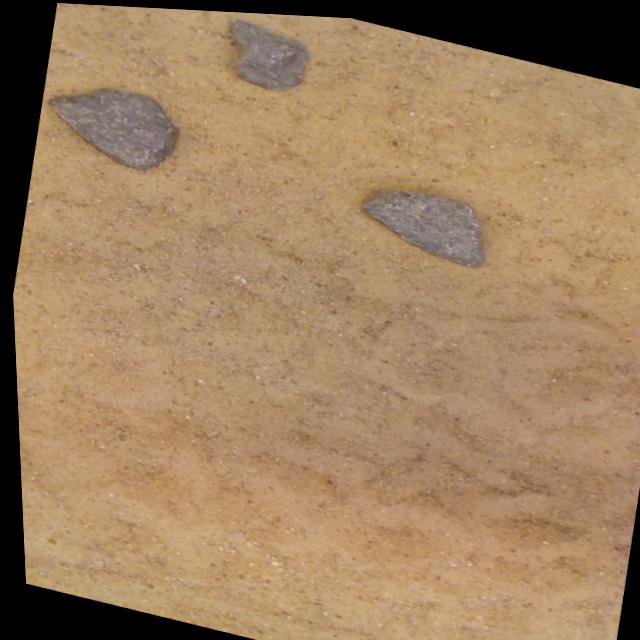rock: (47, 88, 176, 169), (360, 185, 480, 262), (229, 17, 306, 87)
